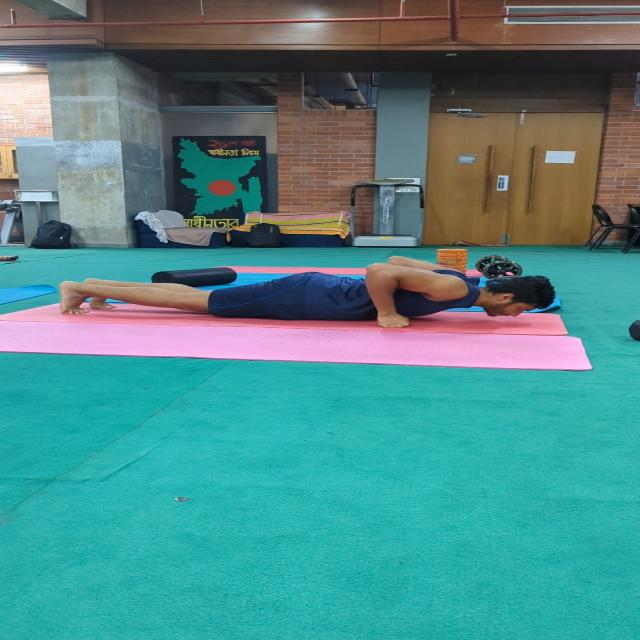Normal_PushUps: (41, 247, 578, 355)
